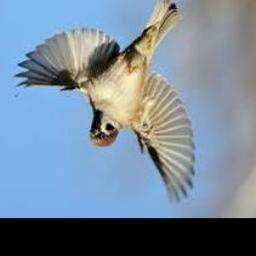Sparrow: (13, 0, 194, 206)
